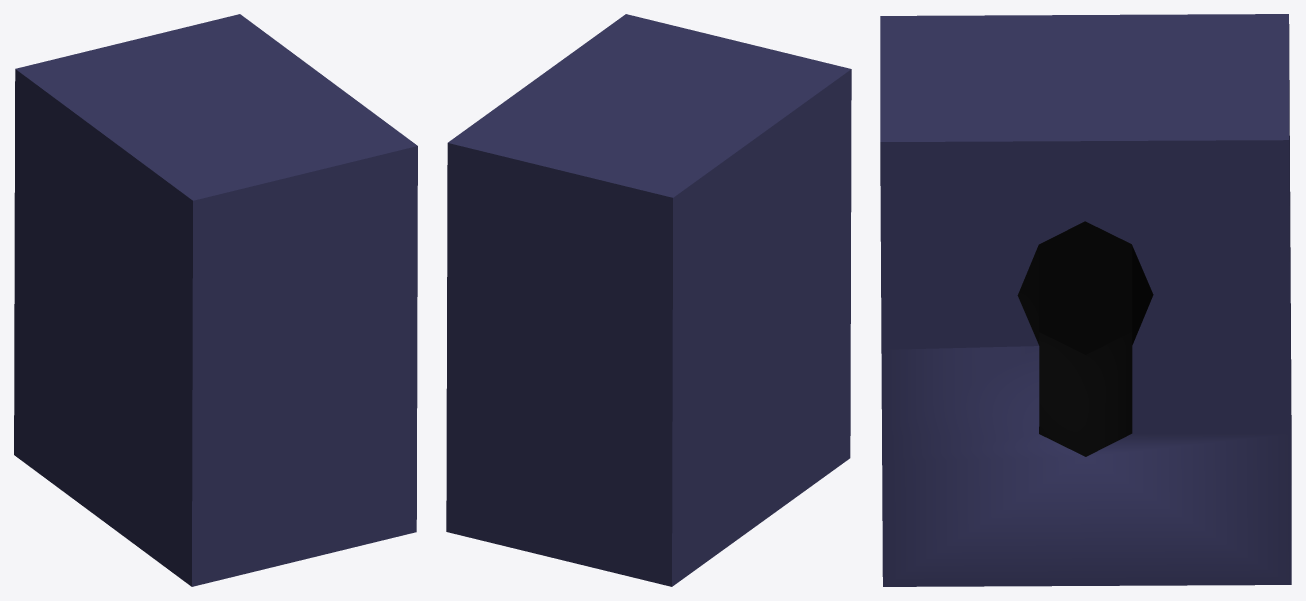
The model's file is PorteVerrouillee.fbx.
The picture shows the model from 3 angles, left to right: view 1: azimuth 30°, elevation 25°; view 2: azimuth 150°, elevation 25°; view 3: azimuth 270°, elevation 25°; orthographic projection. The views are drawn at different scales.
Parts seen in each view (by area): view 1: Cube.002; view 2: Cube.002; view 3: Cube.002.
Boxes of the visible parts, box(x1,y1,x2,y2) form: Cube.002: box(14, 14, 417, 586); Cube.002: box(446, 14, 851, 586); Cube.002: box(880, 14, 1291, 586).
Bounding box in the file's own units: 100 × 165 × 138.
